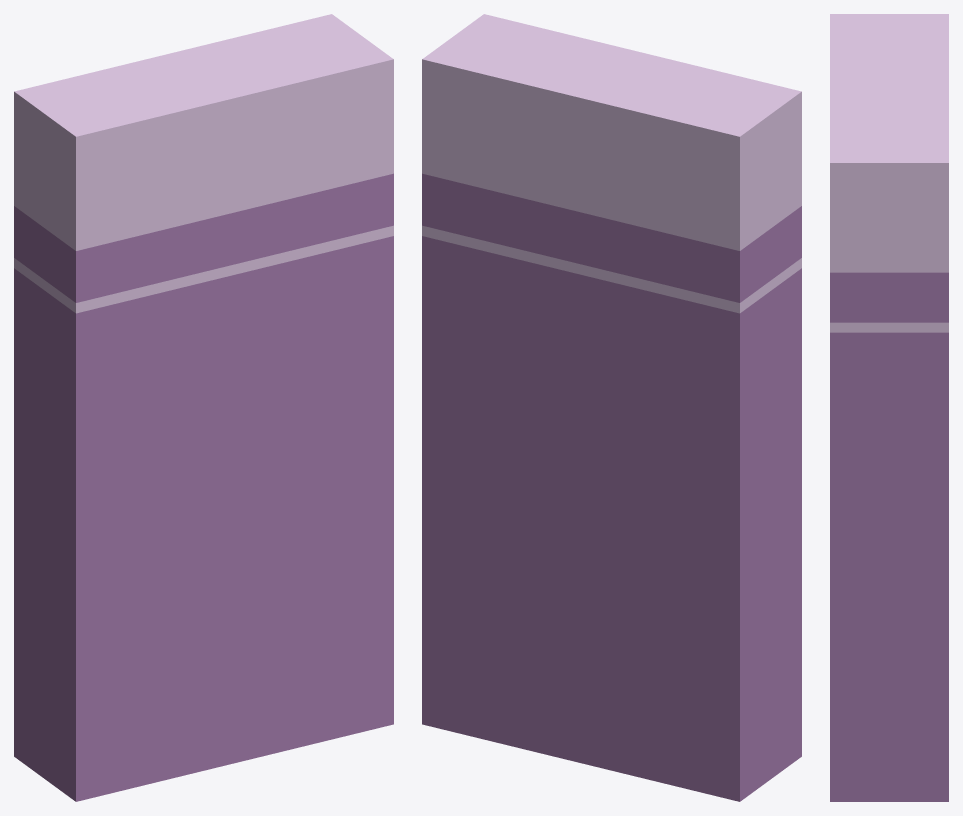
File: yatak .fbx
3 views of the same model, side by side, from view 1: azimuth 30°, elevation 25°; view 2: azimuth 150°, elevation 25°; view 3: azimuth 270°, elevation 25° (orthographic). The views are drawn at different scales.
Visible parts, largest first — view 1: generated; view 2: generated; view 3: generated.
Part boxes in pixels (<box>): generated: <box>14,14,393,801</box>; generated: <box>422,14,801,801</box>; generated: <box>830,14,948,801</box>.
Bounding box in the file's own units: 320 × 640 × 108.
